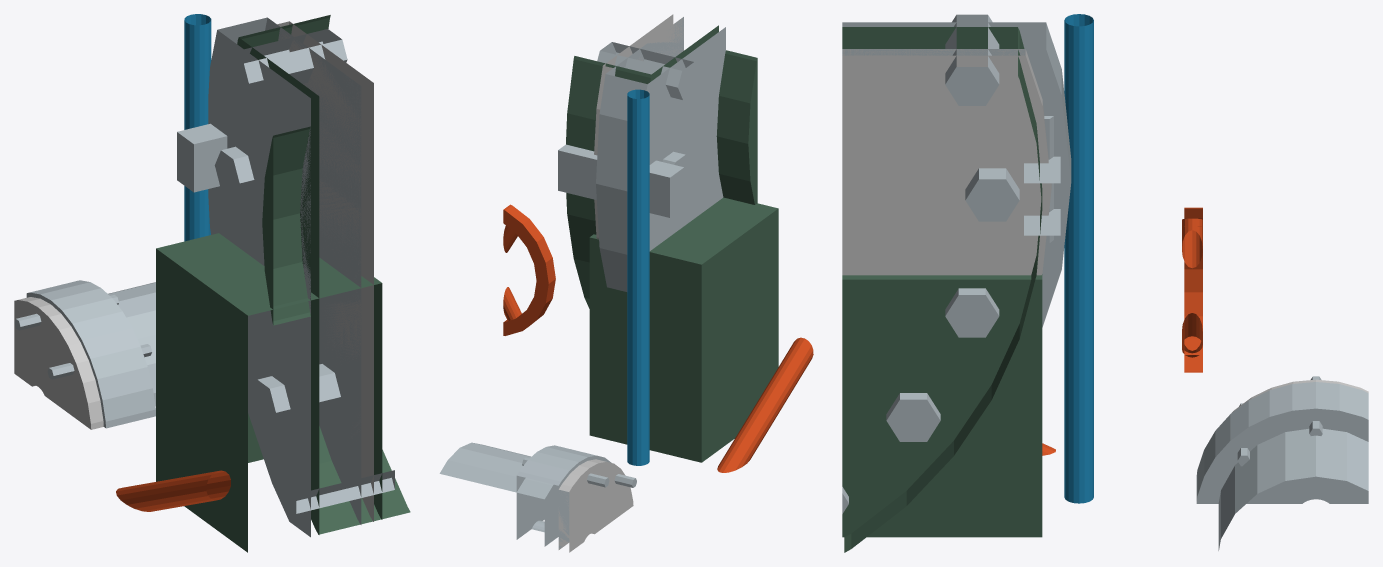
File: cell_30.obj
The picture shows the model from 3 angles, left to right: view 1: azimuth 30°, elevation 25°; view 2: azimuth 150°, elevation 25°; view 3: azimuth 270°, elevation 25°; orthographic projection. The views are drawn at different scales.
Bounding box in the file's own units: 0.4895 × 1 × 1.
